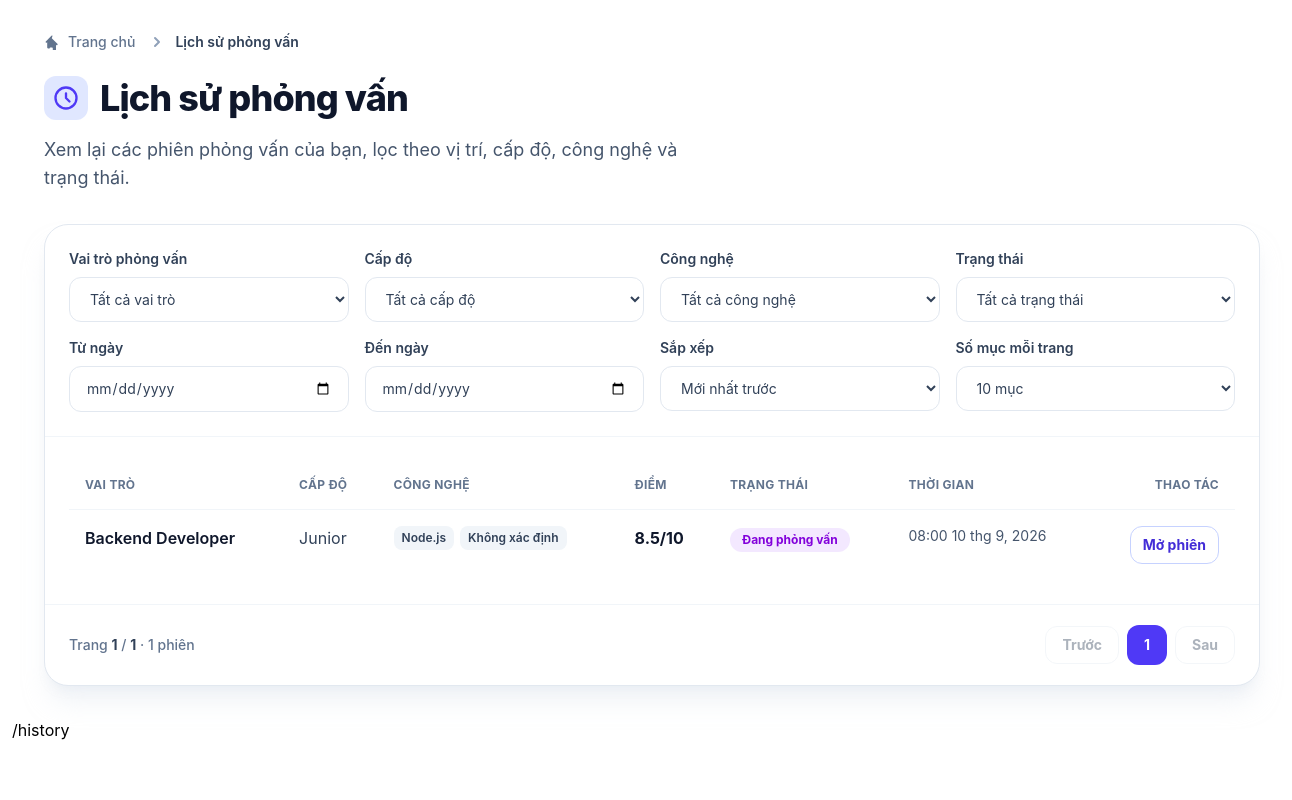
Test: HistoryPage › navigates IN_PROGRESS to its interview session using item.sessionId
Check: the cell "Đang phỏng vấn" is shown, box x1=714 y1=510 x2=892 y2=580
Click the button "Mở phiên": (1174, 545) x1=1130 y1=526 x2=1219 y2=564
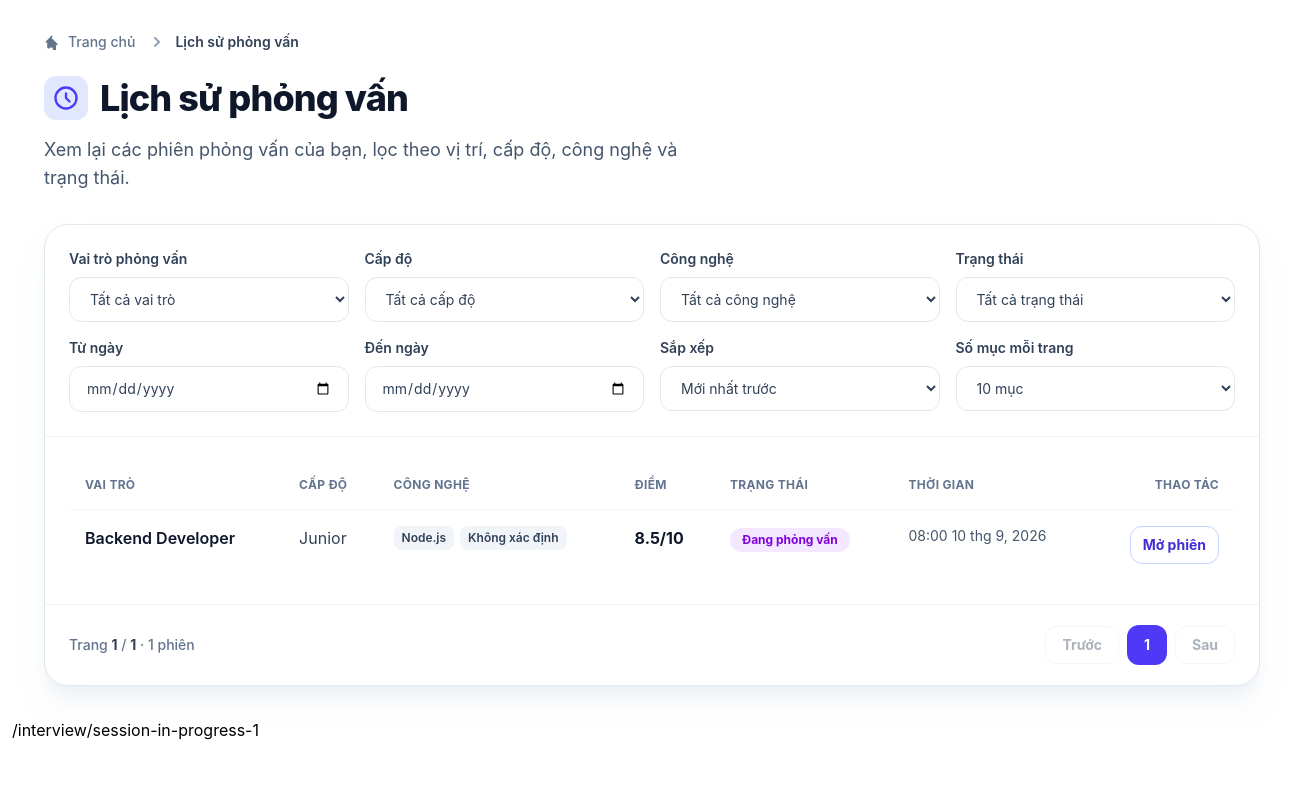
Check: the text with test id "location" reads "/interview/session-in-progress-1", box x1=12 y1=720 x2=259 y2=740
